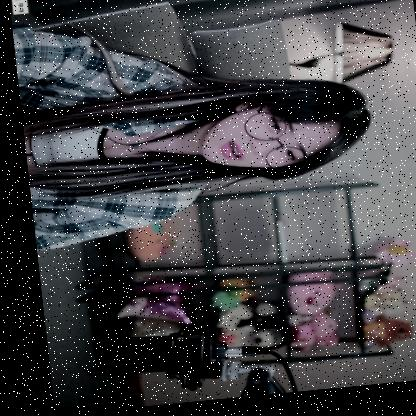streamer: (11, 0, 379, 254)
